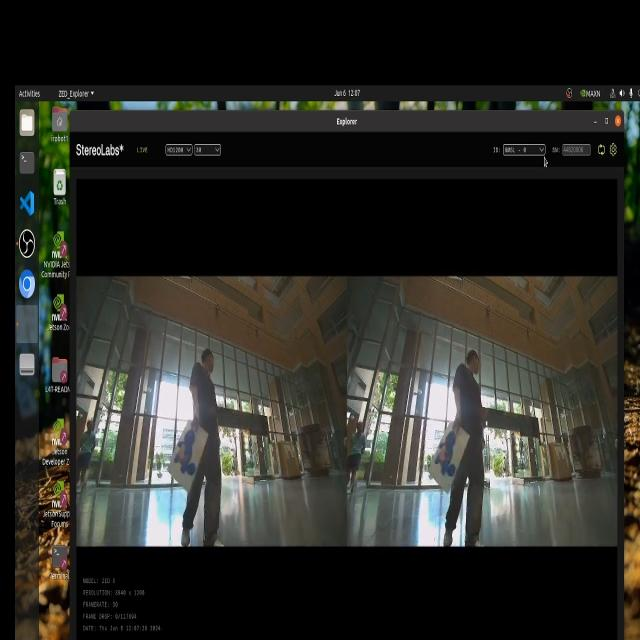blue: (173, 426, 199, 482), (436, 424, 459, 485)
